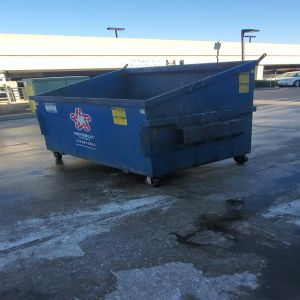Dumpster: (34, 61, 260, 188)
